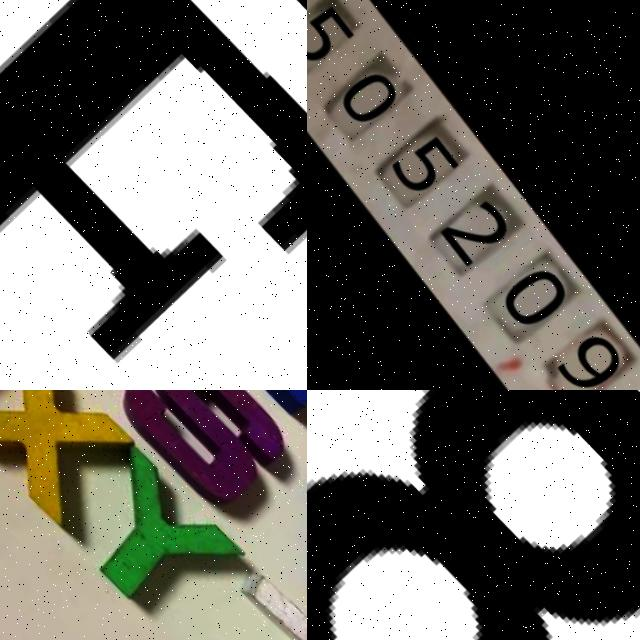0: (465, 239, 585, 349), (308, 43, 418, 143)
2: (408, 172, 531, 284)
5: (361, 109, 473, 211), (307, 0, 371, 83)
8: (307, 390, 640, 640)
9: (518, 305, 638, 390)
F: (0, 0, 307, 390)
S: (97, 390, 297, 516)
T: (236, 452, 307, 640)
X: (0, 390, 138, 528)
Y: (42, 447, 237, 629)
Z: (162, 572, 307, 640)
